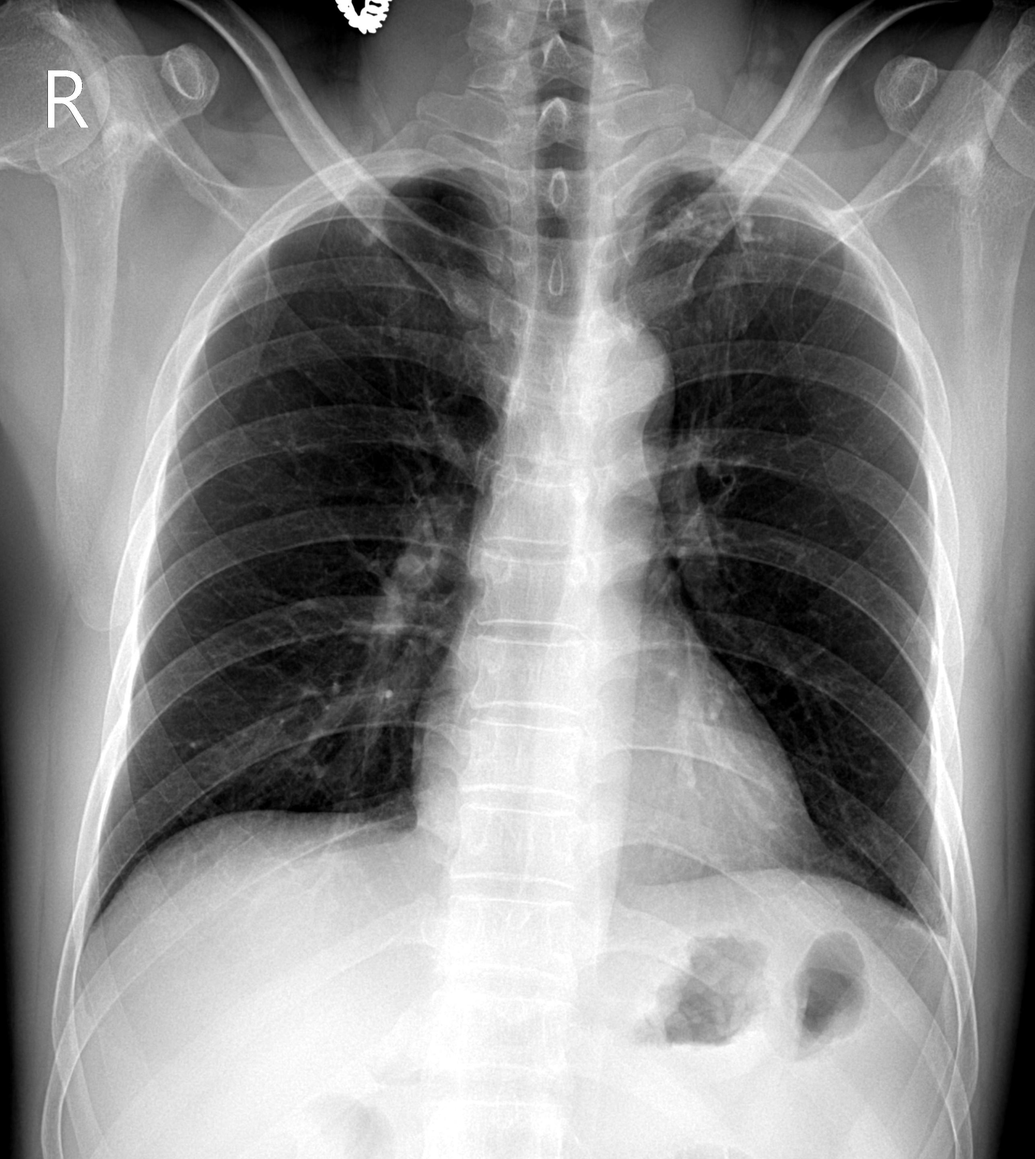Pleural thickening: (922, 901, 969, 981)
Pulmonary fibrosis: (672, 204, 756, 242)
